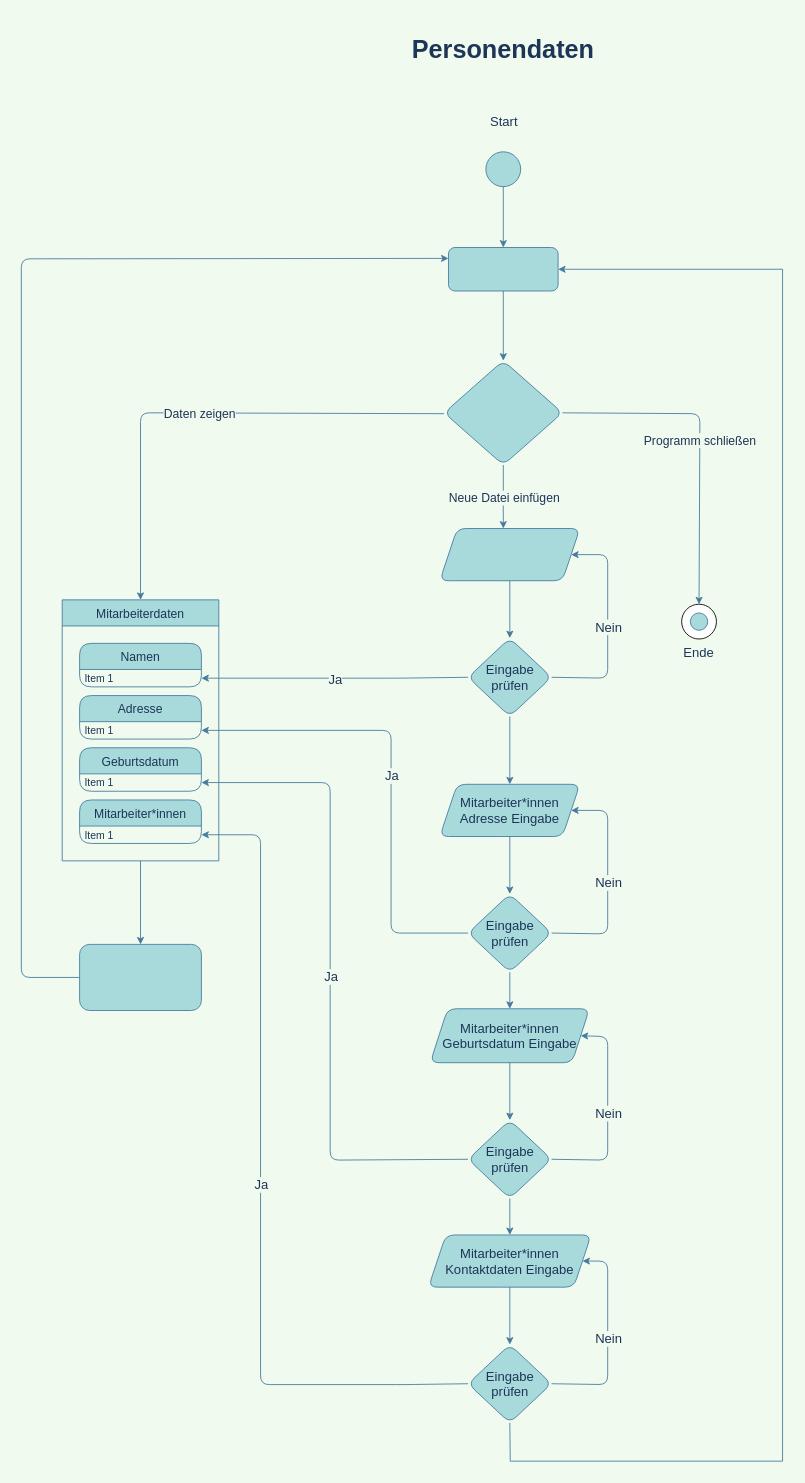
The diagram is 805 pixels wide and 1483 high, and some of its shapes have lost their labels. The centre of each missing label's shape, as x and y in pixels:
Menüliste: (503,269)
Menüwahl prüfen: (502,412)
Mitarbeiter*innen Namen Eingabe: (509,554)
Personendaten zeigen: (140,977)
